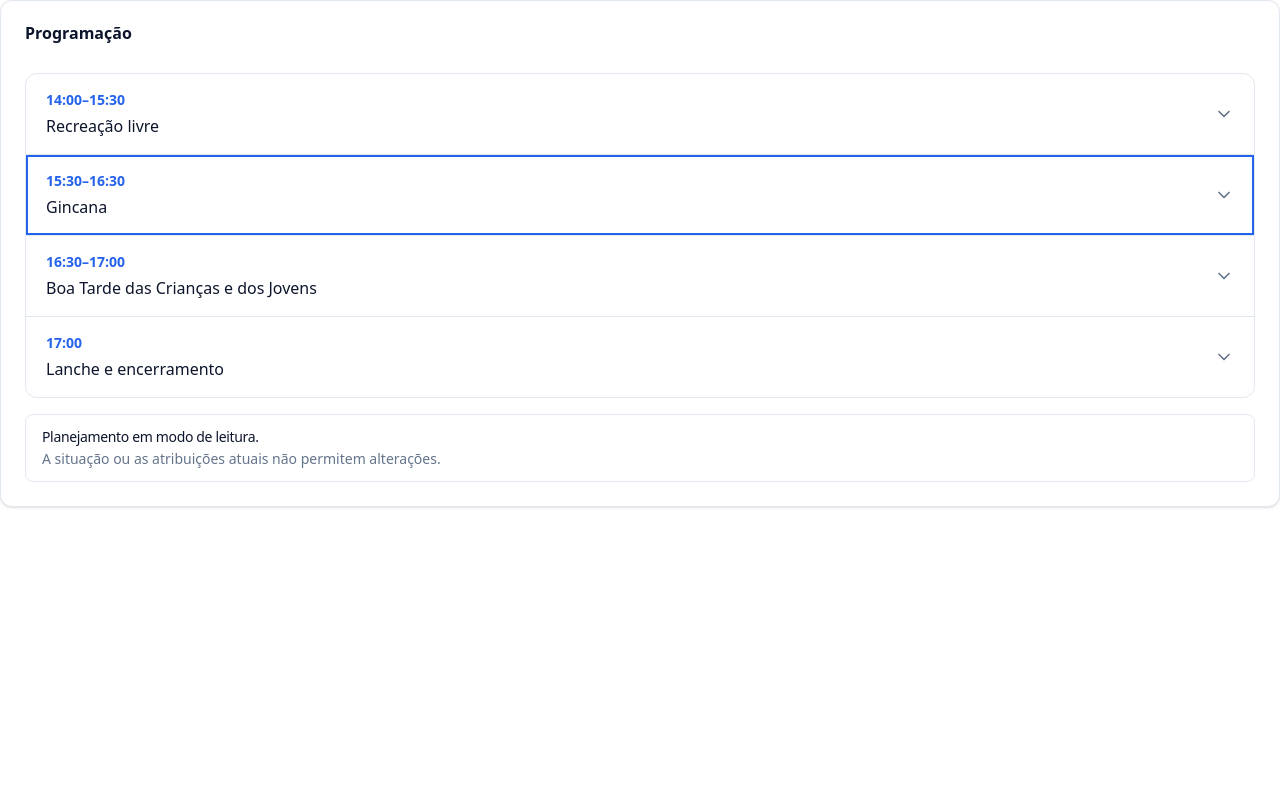
OratorioSchedule › associa cada frente ao seu planejamento e mantém as frentes paralelas separadas
The image size is (1280, 800).
Press Enter
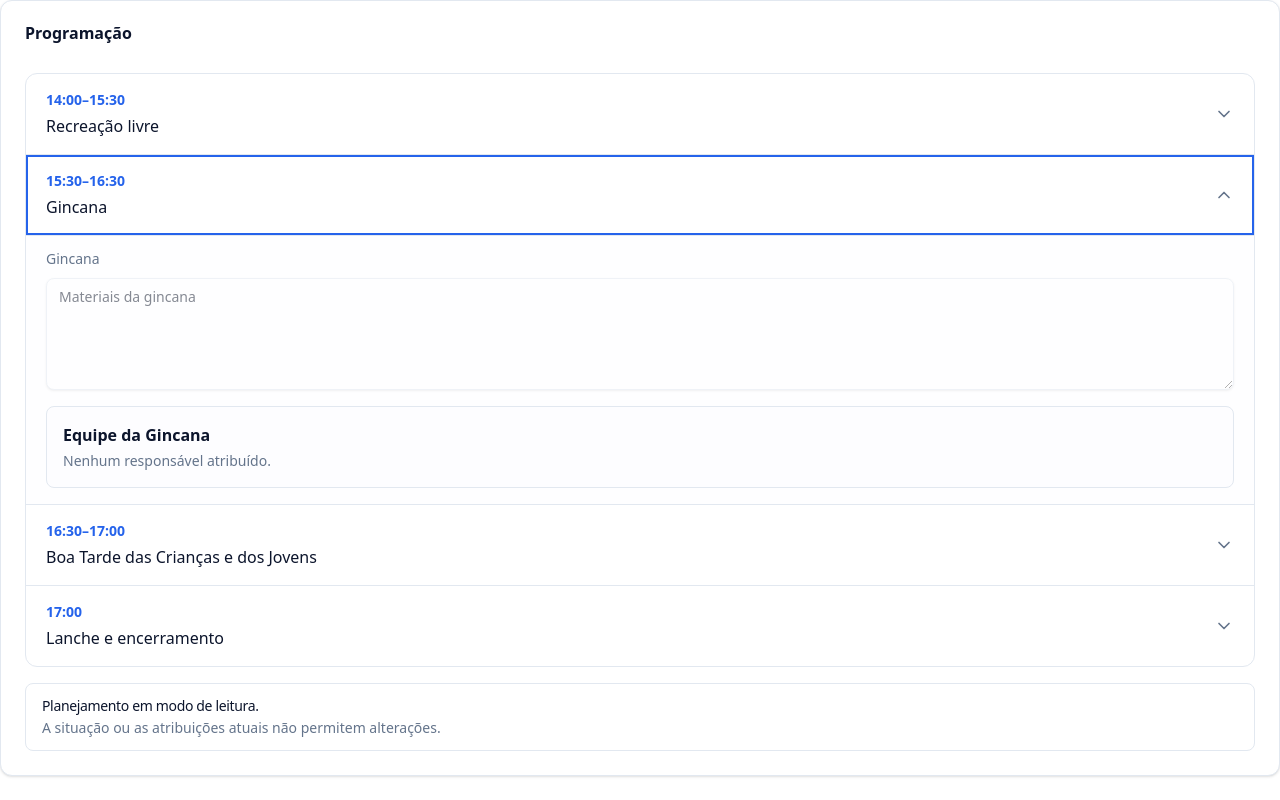
Expected: the element "Gincana Equipe da Gincana Nenhum responsável atribuído." is shown, top-left (26, 235), bottom-right (1254, 504)
Expected: the text box labelled "Gincana" is shown, top-left (46, 278), bottom-right (1234, 390)
Expected: the heading "Equipe da Gincana" is shown, top-left (63, 424), bottom-right (210, 446)
Press Enter
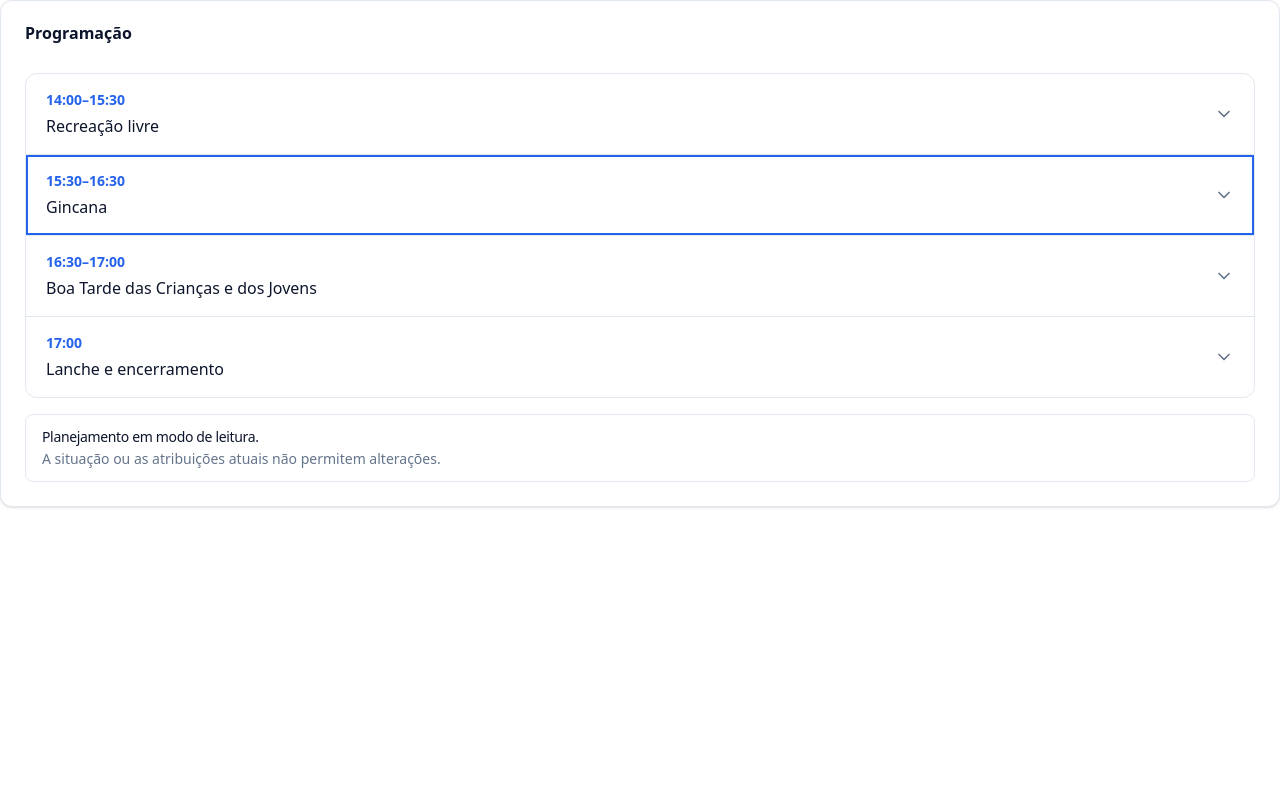
Click the button "16:30–17:00 Boa Tarde das Crianças e dos Jovens" at [64, 262], box top-left (26, 236), bottom-right (1254, 316)
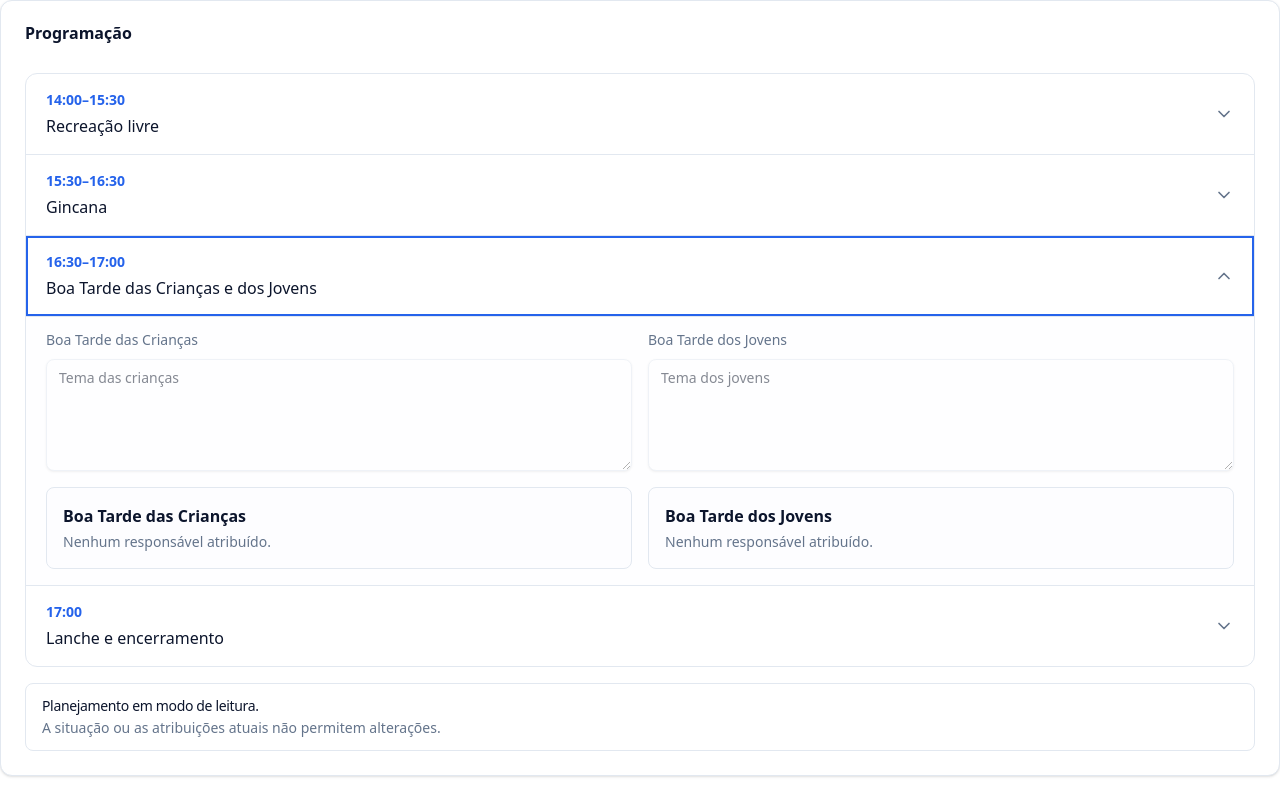
Expected: the text box labelled "Boa Tarde das Crianças" is shown, top-left (46, 359), bottom-right (632, 471)
Expected: the text box labelled "Boa Tarde dos Jovens" is shown, top-left (648, 359), bottom-right (1234, 471)
Expected: the heading "Boa Tarde das Crianças" is shown, top-left (63, 504), bottom-right (271, 528)
